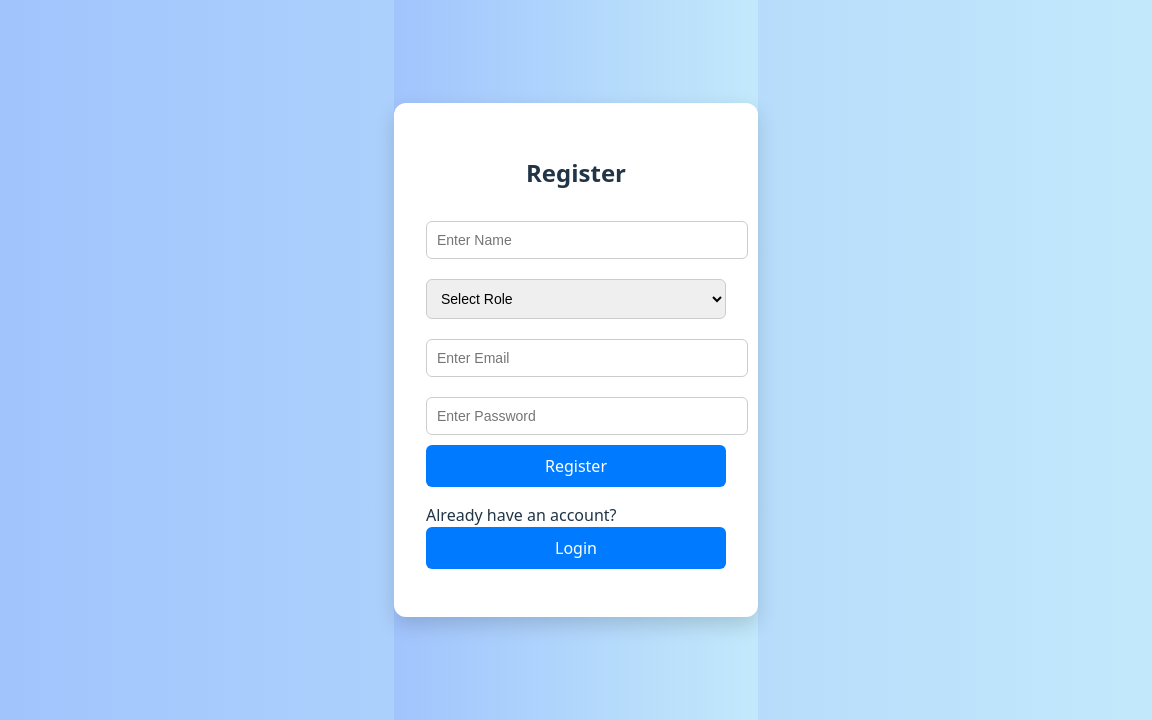
Register Component › shows error message on failed registration
In the field with placeholder "Enter Name": (587, 240) top-left (426, 221), bottom-right (748, 259), type "Bhavani"
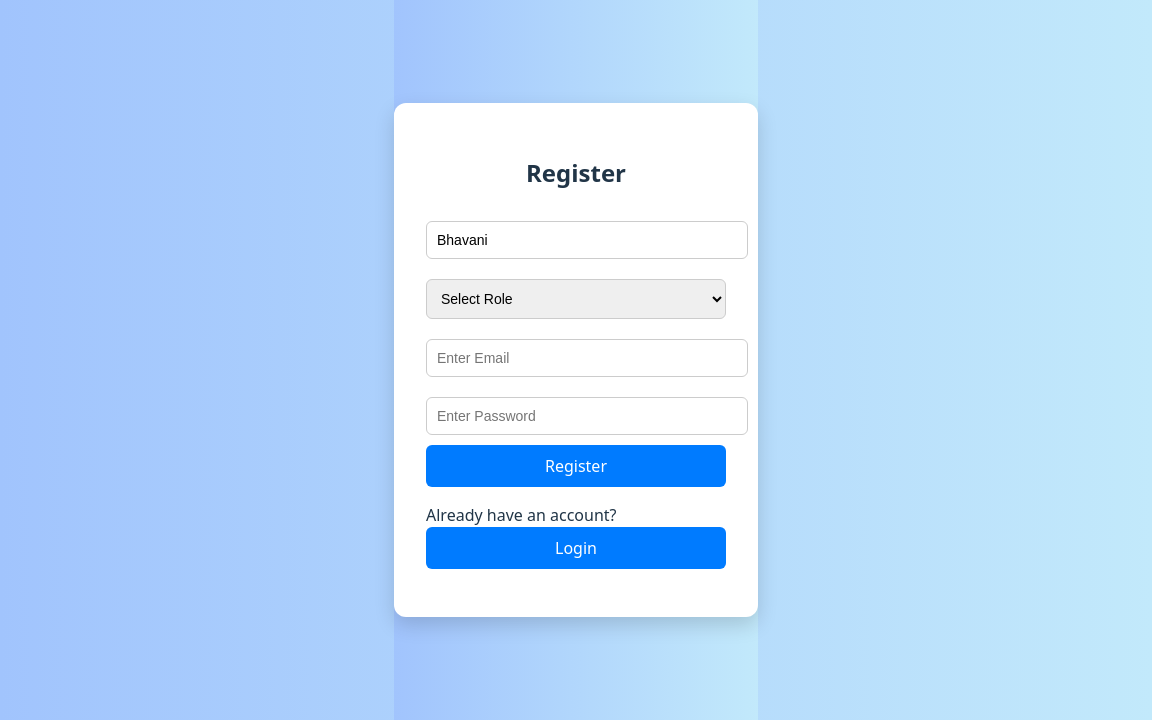
Select "student" in the dropdown: (576, 299) top-left (426, 279), bottom-right (726, 319)
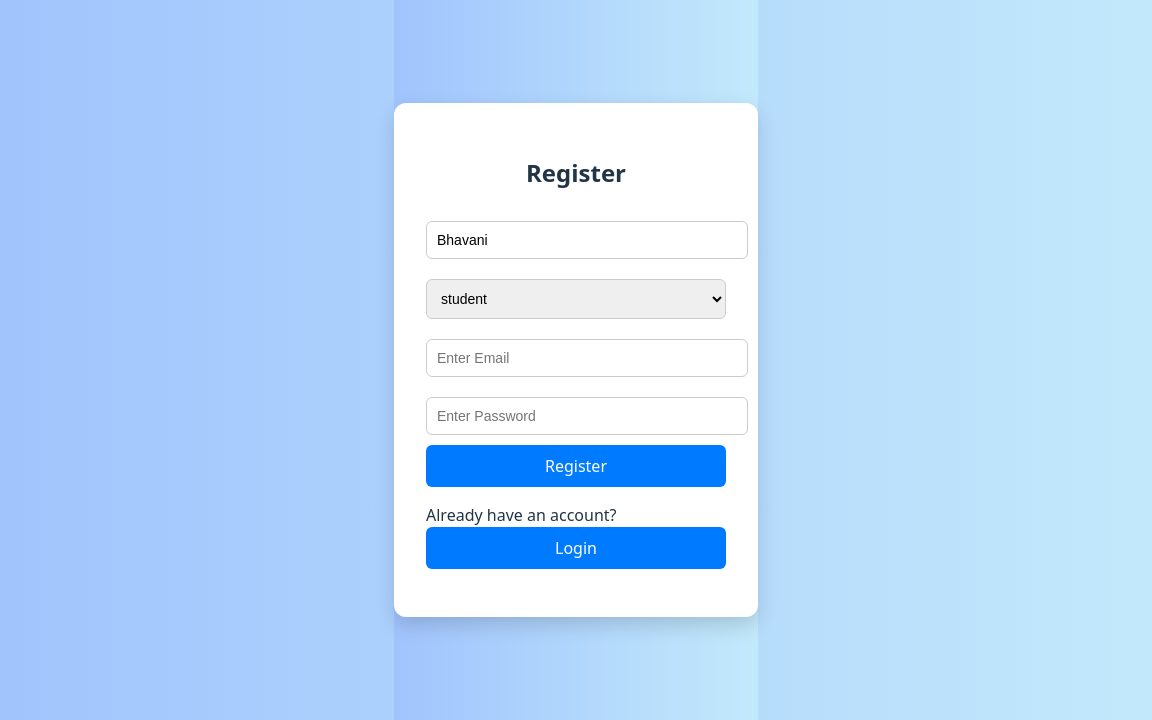
In the field with placeholder "Enter Email": (587, 358) top-left (426, 339), bottom-right (748, 377), type "bhavani@example.com"
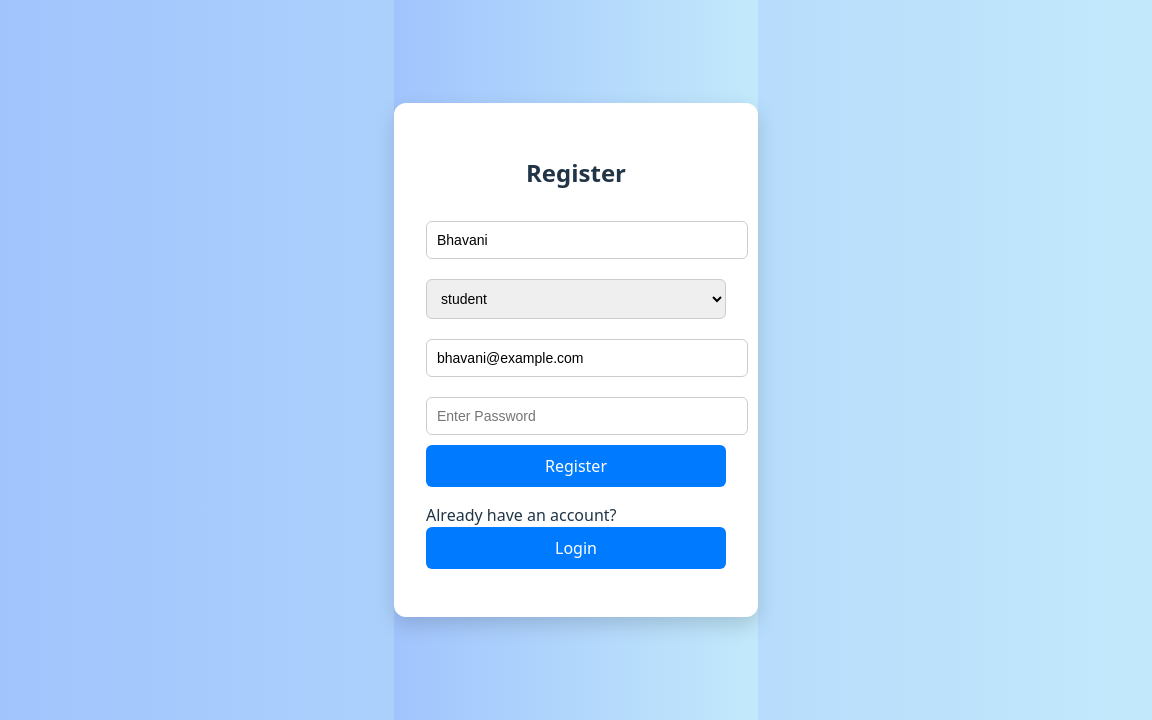
In the password field with placeholder "Enter Password": (587, 416) top-left (426, 397), bottom-right (748, 435), type "securepass"
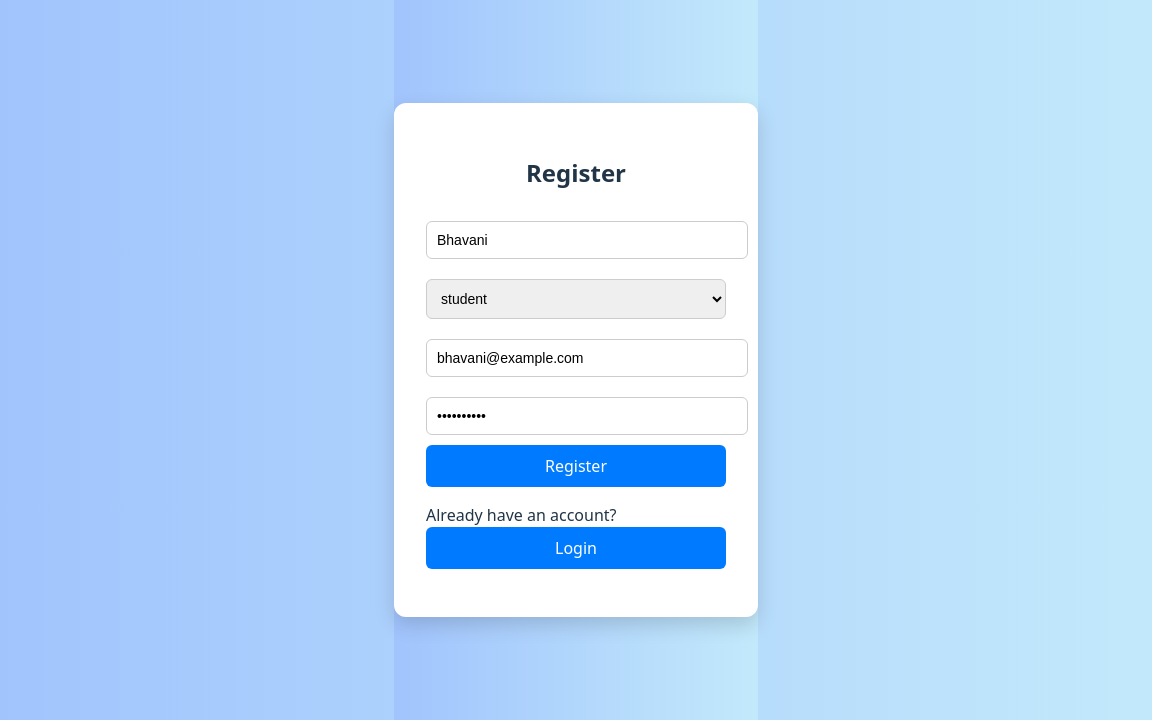
Click the button "Register": (576, 466) top-left (426, 445), bottom-right (726, 487)
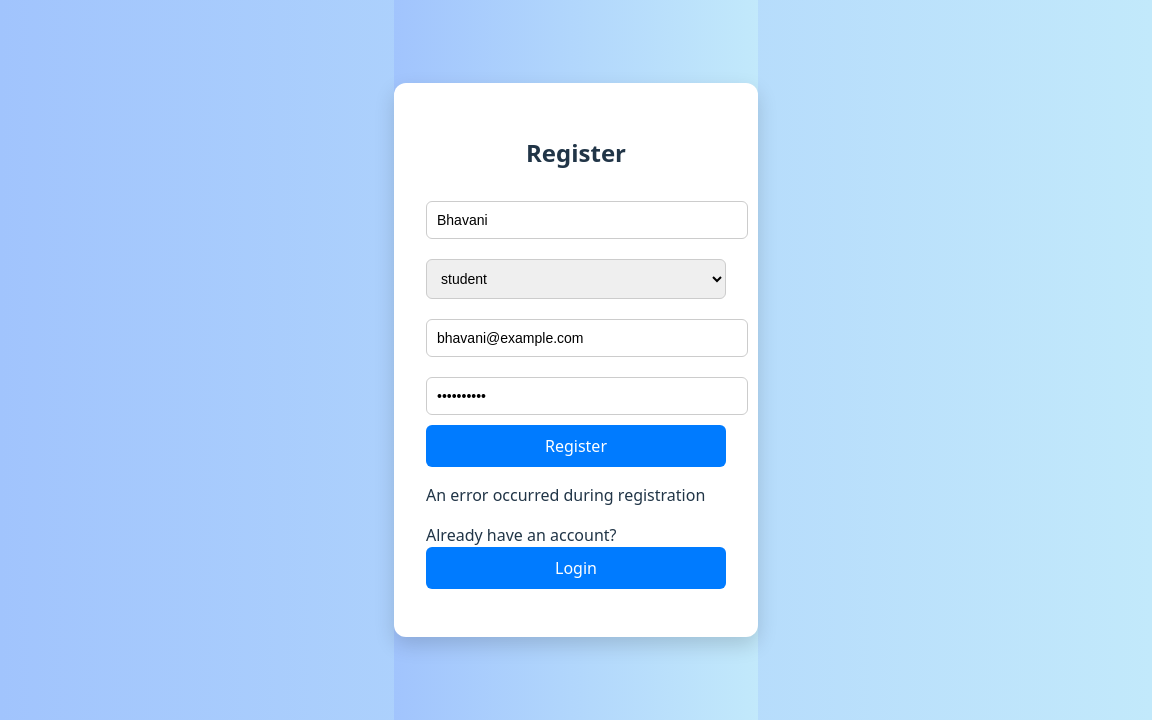
Check: the text "An error occurred during registration" is shown, box top-left (426, 483), bottom-right (726, 507)
